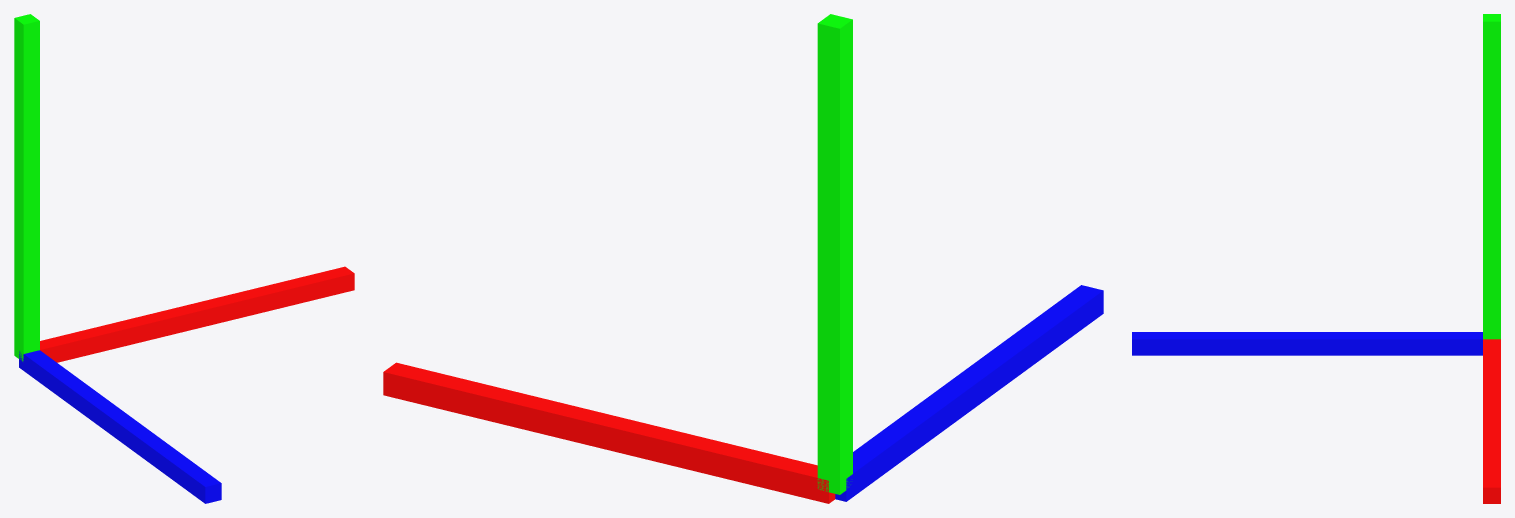
The model's file is gizmo.glb.
The picture shows the model from 3 angles, left to right: view 1: azimuth 30°, elevation 25°; view 2: azimuth 150°, elevation 25°; view 3: azimuth 270°, elevation 25°; orthographic projection. The views are drawn at different scales.
Parts seen in each view (by area): view 1: y, x, z; view 2: y, x, z; view 3: z, y, x.
Boxes of the visible parts, bbox=[...] form: y: bbox=[14, 14, 39, 361]; x: bbox=[40, 266, 354, 362]; z: bbox=[19, 350, 221, 503]; y: bbox=[817, 14, 852, 494]; x: bbox=[383, 362, 835, 503]; z: bbox=[835, 285, 1103, 501]; z: bbox=[1132, 332, 1482, 355]; y: bbox=[1483, 14, 1500, 339]; x: bbox=[1483, 339, 1500, 503].
Bounding box in the file's own units: 0.41 × 0.41 × 0.41.
Materials: 1 (1 with a texture image).
